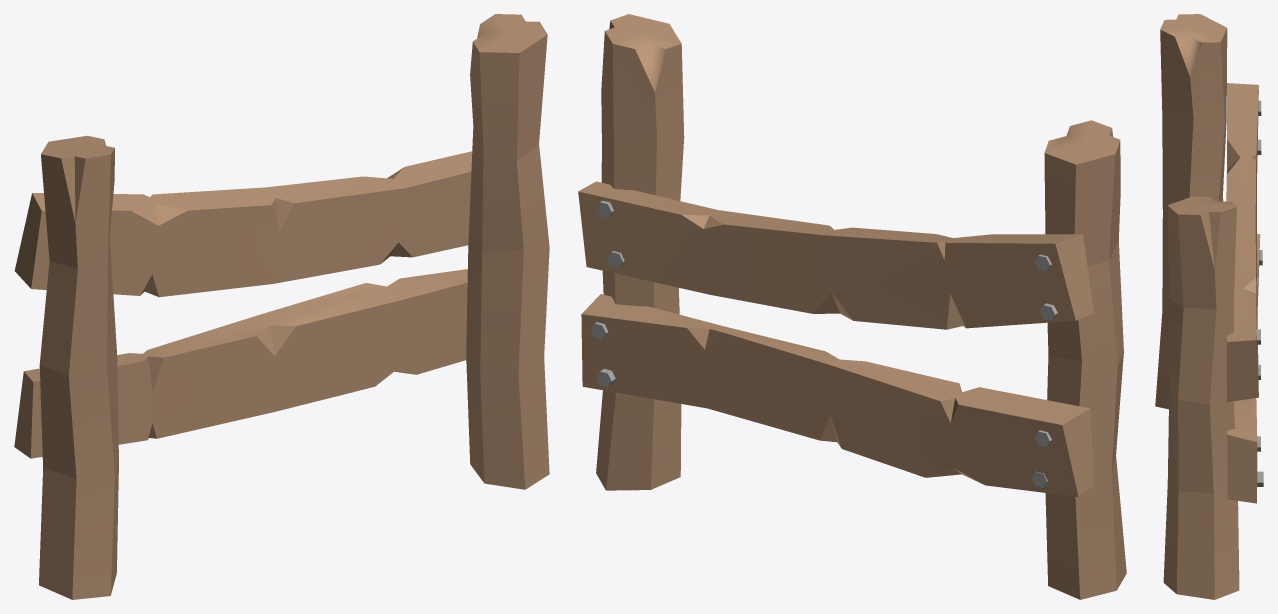
The model's file is fence3.fbx.
3 renders of one model, left to right at view 1: azimuth 30°, elevation 25°; view 2: azimuth 150°, elevation 25°; view 3: azimuth 270°, elevation 25°, orthographic. The views are drawn at different scales.
Parts seen in each view (by area): view 1: pasted__pCube4, pasted__pCube3, pasted__pCylinder4, pasted__pCylinder5; view 2: pasted__pCube3, pasted__pCube4, pasted__pCylinder5, pasted__pCylinder4; view 3: pasted__pCylinder4, pasted__pCylinder5, pasted__pCube4, pasted__pCube3.
Boxes of the visible parts, <box> form: pasted__pCube4: <box>14,151,472,297</box>; pasted__pCube3: <box>14,269,467,458</box>; pasted__pCylinder4: <box>466,14,549,489</box>; pasted__pCylinder5: <box>39,135,118,599</box>; pasted__pCube3: <box>581,294,1094,496</box>; pasted__pCube4: <box>578,181,1093,329</box>; pasted__pCylinder5: <box>1044,120,1126,599</box>; pasted__pCylinder4: <box>596,14,684,490</box>; pasted__pCylinder4: <box>1163,196,1239,599</box>; pasted__pCylinder5: <box>1155,14,1227,409</box>; pasted__pCube4: <box>1226,83,1258,401</box>; pasted__pCube3: <box>1227,233,1260,503</box>.
Bounding box in the file's own units: 6.34 × 5.31 × 1.36.
